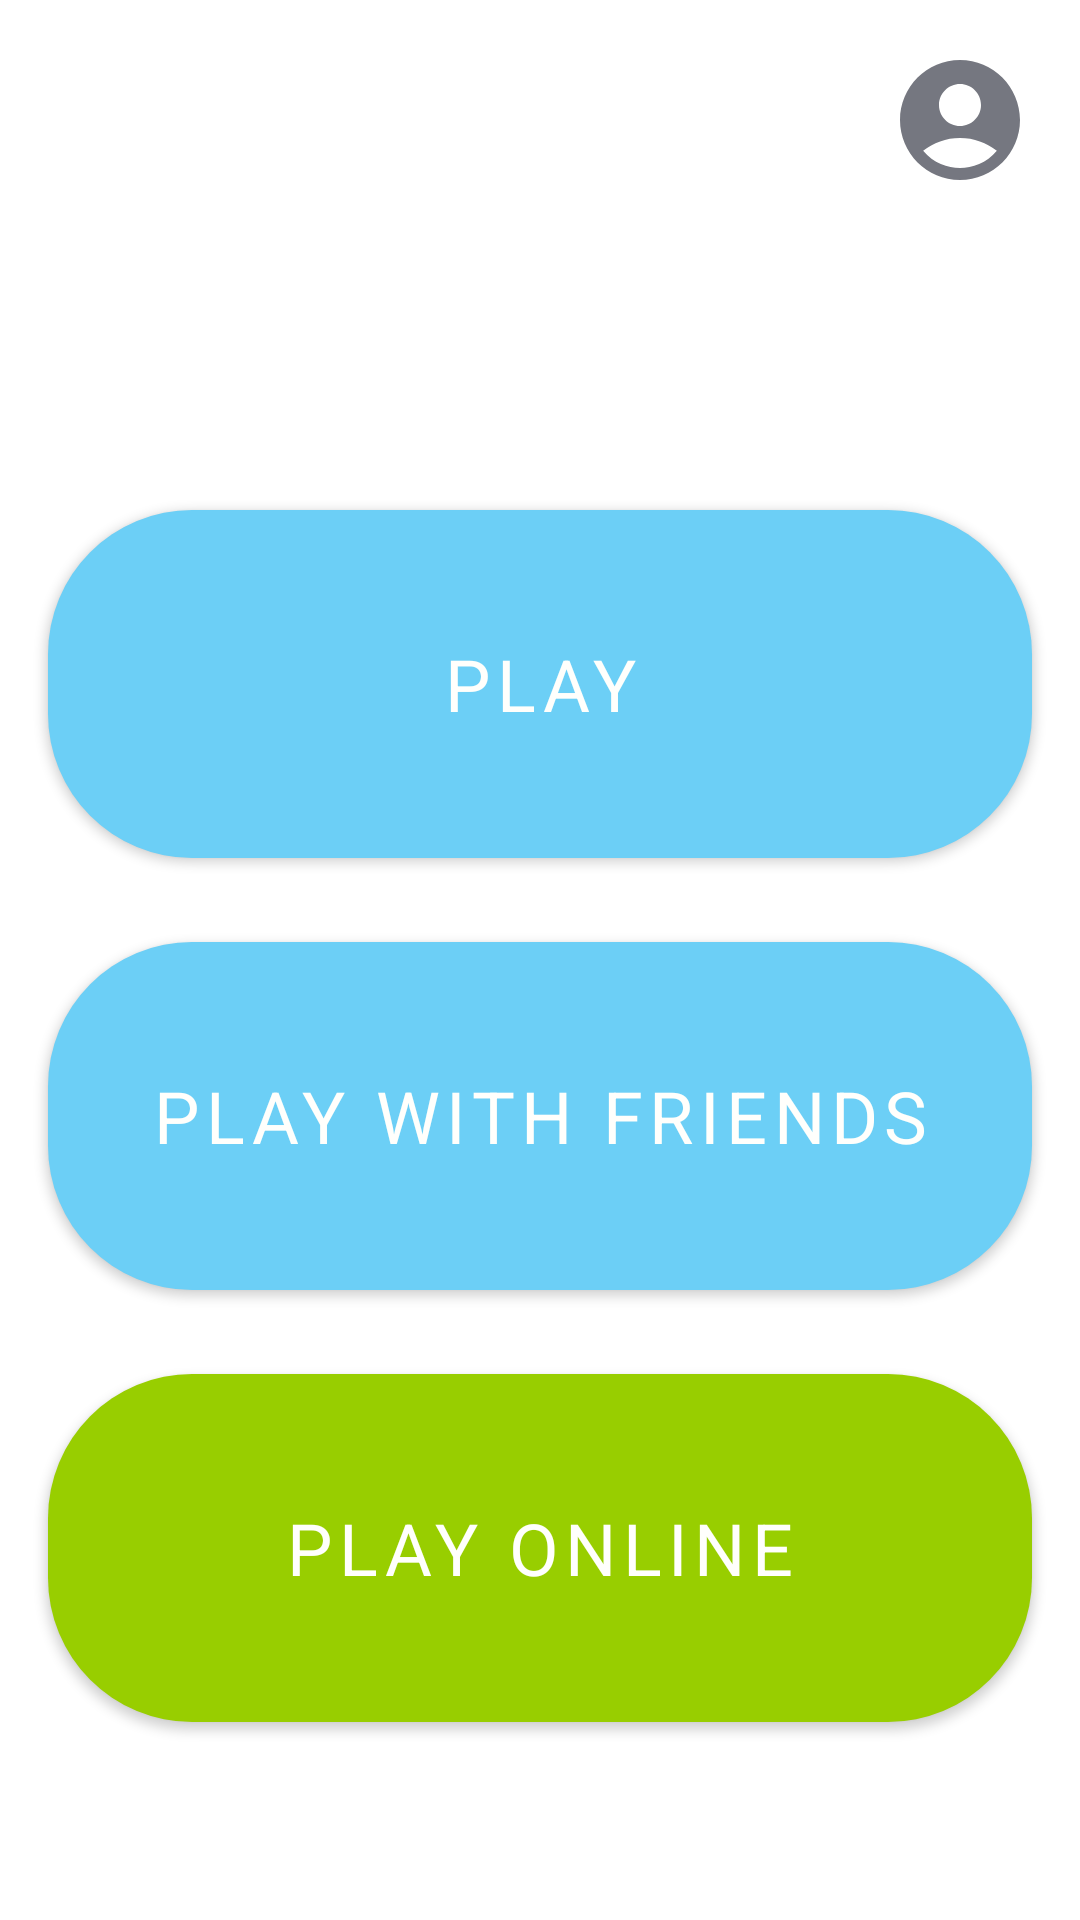

Icon bounding boxes for this 1080px x 1920px phone screenshot, format box=[x1, y1, x2, y2]:
account circle: box=[900, 60, 1020, 180]
